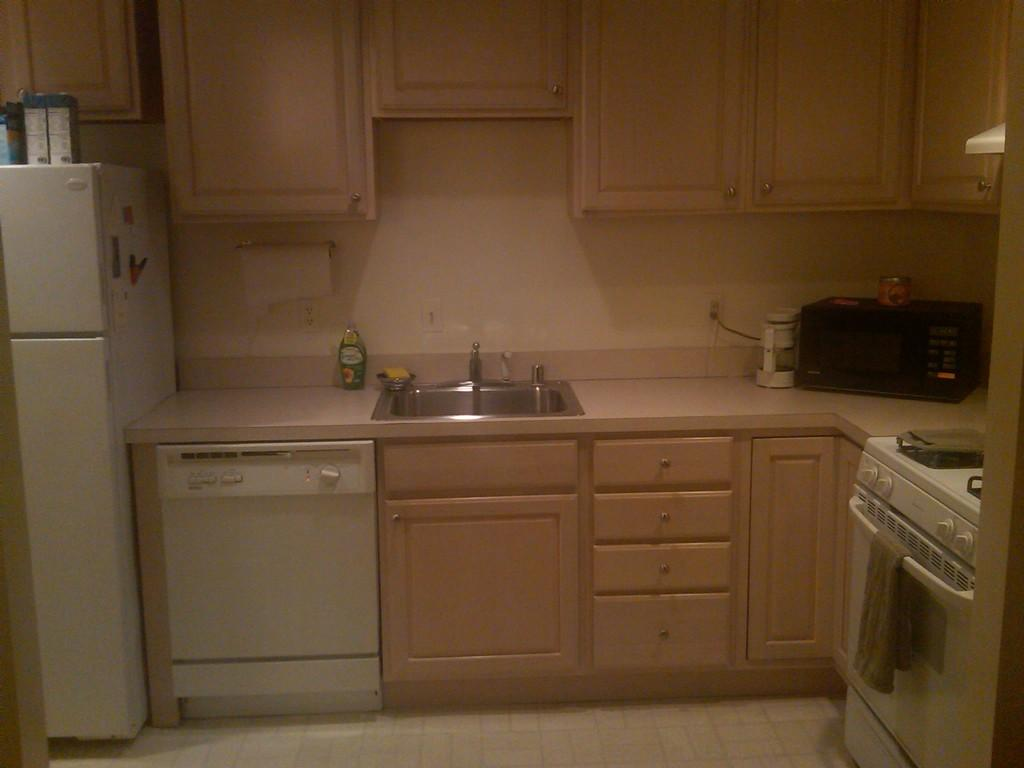cabinet_door: (172, 4, 374, 214), (578, 16, 750, 203), (385, 502, 572, 662), (754, 15, 904, 203), (375, 8, 567, 109), (920, 22, 1002, 202), (27, 8, 131, 104), (598, 591, 726, 666), (598, 493, 726, 545), (595, 439, 728, 484), (594, 545, 728, 586)
handle: (348, 184, 366, 216), (654, 452, 678, 475), (546, 82, 570, 104), (652, 557, 674, 580), (656, 506, 674, 534), (658, 616, 676, 644), (966, 178, 988, 200), (719, 182, 743, 202), (388, 510, 408, 531), (759, 180, 772, 202)
